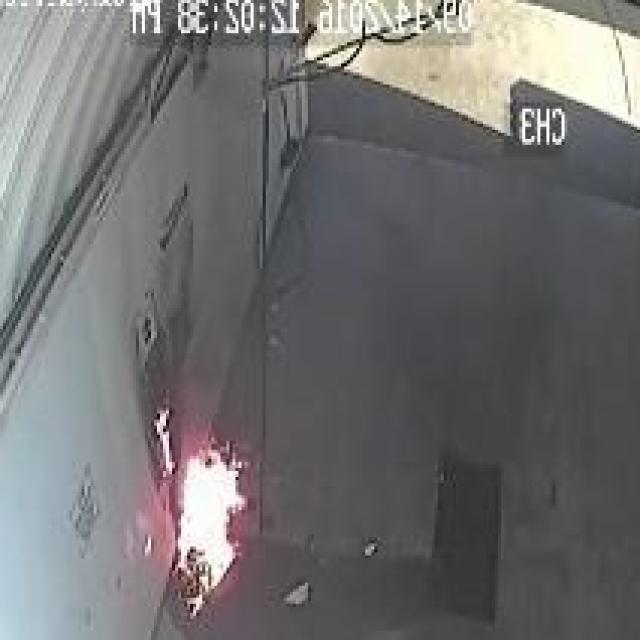smoke: (142, 440, 256, 614)
